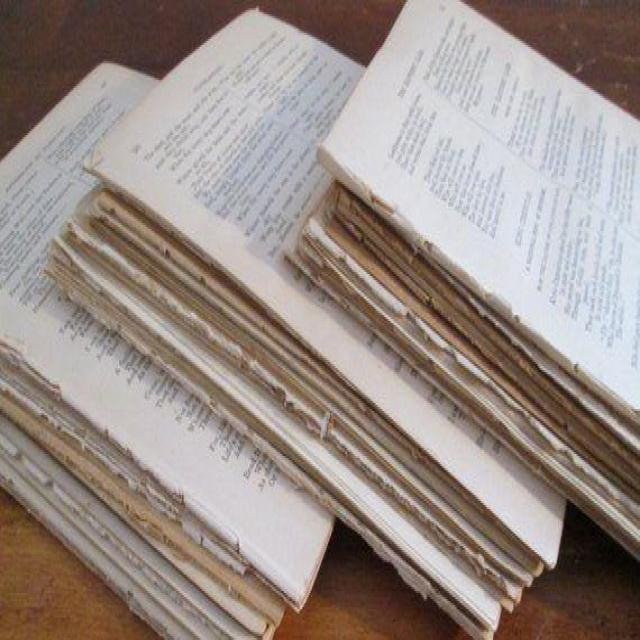paper: (44, 8, 567, 640), (283, 0, 640, 566), (0, 59, 336, 640)
